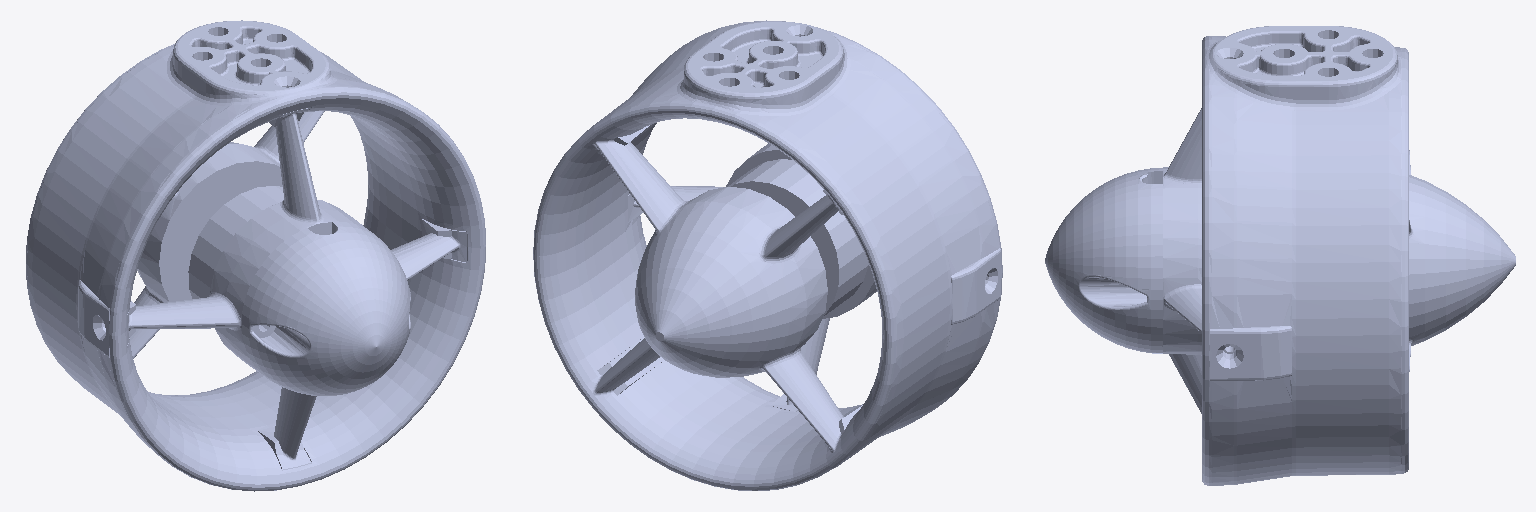
URDF robot description (T100-THRUSTER-SHELL):
<?xml version="1.0" encoding="utf-8"?>
<!-- This URDF was automatically created by SolidWorks to URDF Exporter! Originally created by [author] ([email redacted]) 
     Commit Version: 1.5.1-0-g916b5db  Build Version: 1.5.7152.31018
     For more information, please see http://wiki.ros.org/sw_urdf_exporter -->
<robot
  name="T100-THRUSTER-SHELL">
  <link
    name="T100-THRUSTER-SHELL">
    <inertial>
      <origin
        xyz="3.9383E-05 -0.0049765 0.0092606"
        rpy="0 0 0" />
      <mass
        value="0.38044" />
      <inertia
        ixx="0.00039776"
        ixy="-1.3762E-07"
        ixz="-4.8314E-07"
        iyy="0.00040427"
        iyz="1.5933E-05"
        izz="0.00027739" />
    </inertial>
    <visual>
      <origin
        xyz="0 0 0"
        rpy="1.5707963267949 0 0" />
      <geometry>
        <mesh
          filename="package://T100-THRUSTER-SHELL/meshes/T100-THRUSTER-SHELL.STL" />
      </geometry>
      <material
        name="">
        <color
          rgba="0.79216 0.81961 0.93333 1" />
        <texture
          filename="package://T100-THRUSTER-SHELL/textures/" />
      </material>
    </visual>
    <collision>
      <origin
        xyz="0 0 0"
        rpy="1.5707963267949 0 0" />
      <geometry>
        <mesh
          filename="package://T100-THRUSTER-SHELL/meshes/T100-THRUSTER-SHELL.STL" />
      </geometry>
    </collision>
  </link>
</robot>

--- What the picture shows (computed from the rendered views, not written in the file) ---
The picture shows the robot from 3 angles, left to right: view 1: azimuth 30°, elevation 25°; view 2: azimuth 150°, elevation 25°; view 3: azimuth 270°, elevation 25°; orthographic projection.
Model T100-THRUSTER-SHELL with 1 links and 0 joints (none), rooted at T100-THRUSTER-SHELL, posed all joints at 0.
Visible links, largest first — view 1: T100-THRUSTER-SHELL; view 2: T100-THRUSTER-SHELL; view 3: T100-THRUSTER-SHELL.
Boxes of the visible links, bbox=[...] form: T100-THRUSTER-SHELL: bbox=[26, 20, 485, 491]; T100-THRUSTER-SHELL: bbox=[533, 20, 1002, 490]; T100-THRUSTER-SHELL: bbox=[1045, 26, 1515, 485].
Bounding box of the posed robot: 96.58 × 101 × 97.29 m (x, y, z).
1 mesh visuals loaded from 1 distinct referenced files (1 binary STL).